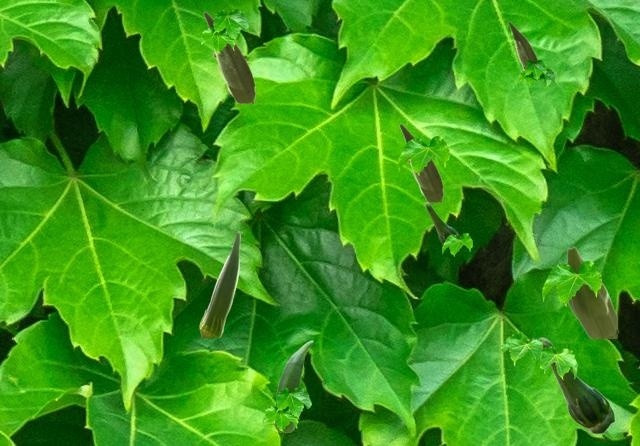okra: (539, 337, 614, 433), (203, 11, 254, 102), (566, 246, 616, 337), (199, 231, 239, 336), (274, 340, 312, 431), (399, 123, 442, 201), (424, 202, 460, 248), (508, 21, 538, 69)
